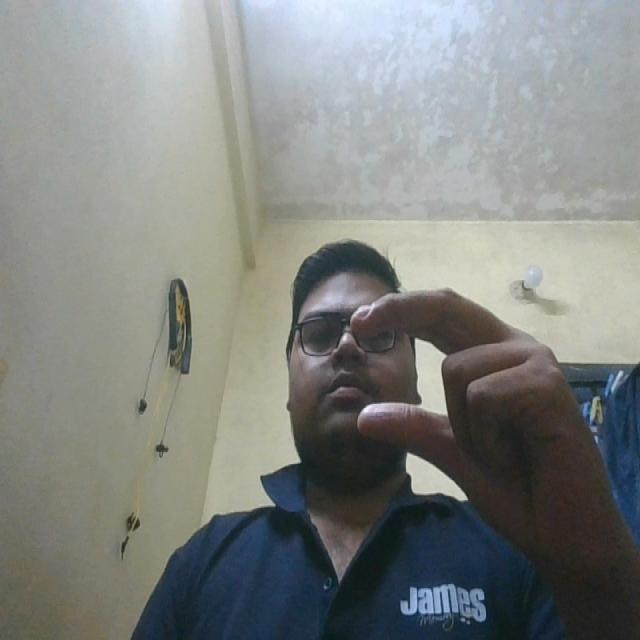No: (340, 284, 600, 546)
